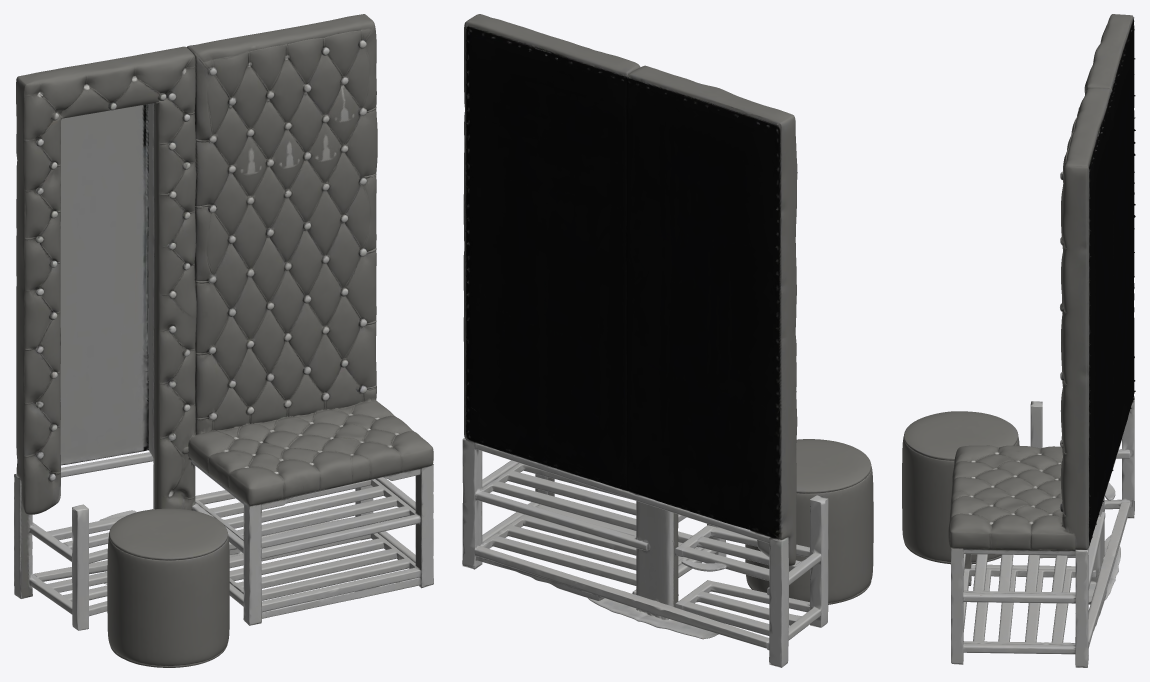
File: No Name-02.glb
3 views of the same model, side by side, from view 1: azimuth 30°, elevation 25°; view 2: azimuth 150°, elevation 25°; view 3: azimuth 270°, elevation 25° (orthographic). The views are drawn at different scales.
Parts seen in each view (by area): view 1: tripo_node_b3f99515-2890-4048-bb6e-5c191cbcc6b9; view 2: tripo_node_b3f99515-2890-4048-bb6e-5c191cbcc6b9; view 3: tripo_node_b3f99515-2890-4048-bb6e-5c191cbcc6b9.
Part boxes in pixels (x1,y1,x2,y2): tripo_node_b3f99515-2890-4048-bb6e-5c191cbcc6b9: (14, 14, 433, 667); tripo_node_b3f99515-2890-4048-bb6e-5c191cbcc6b9: (462, 14, 873, 667); tripo_node_b3f99515-2890-4048-bb6e-5c191cbcc6b9: (902, 14, 1135, 667).
Bounding box in the file's own units: 0.6512 × 0.9811 × 0.4124.
Materials: 1 (1 with a texture image).
